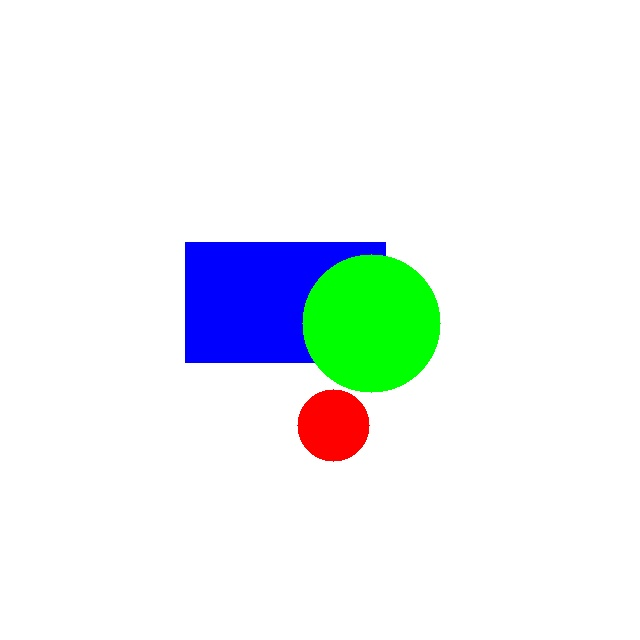cartao: (185, 242, 385, 362)
rosca_externa: (302, 254, 440, 392)
rosca_interna: (297, 389, 369, 461)
